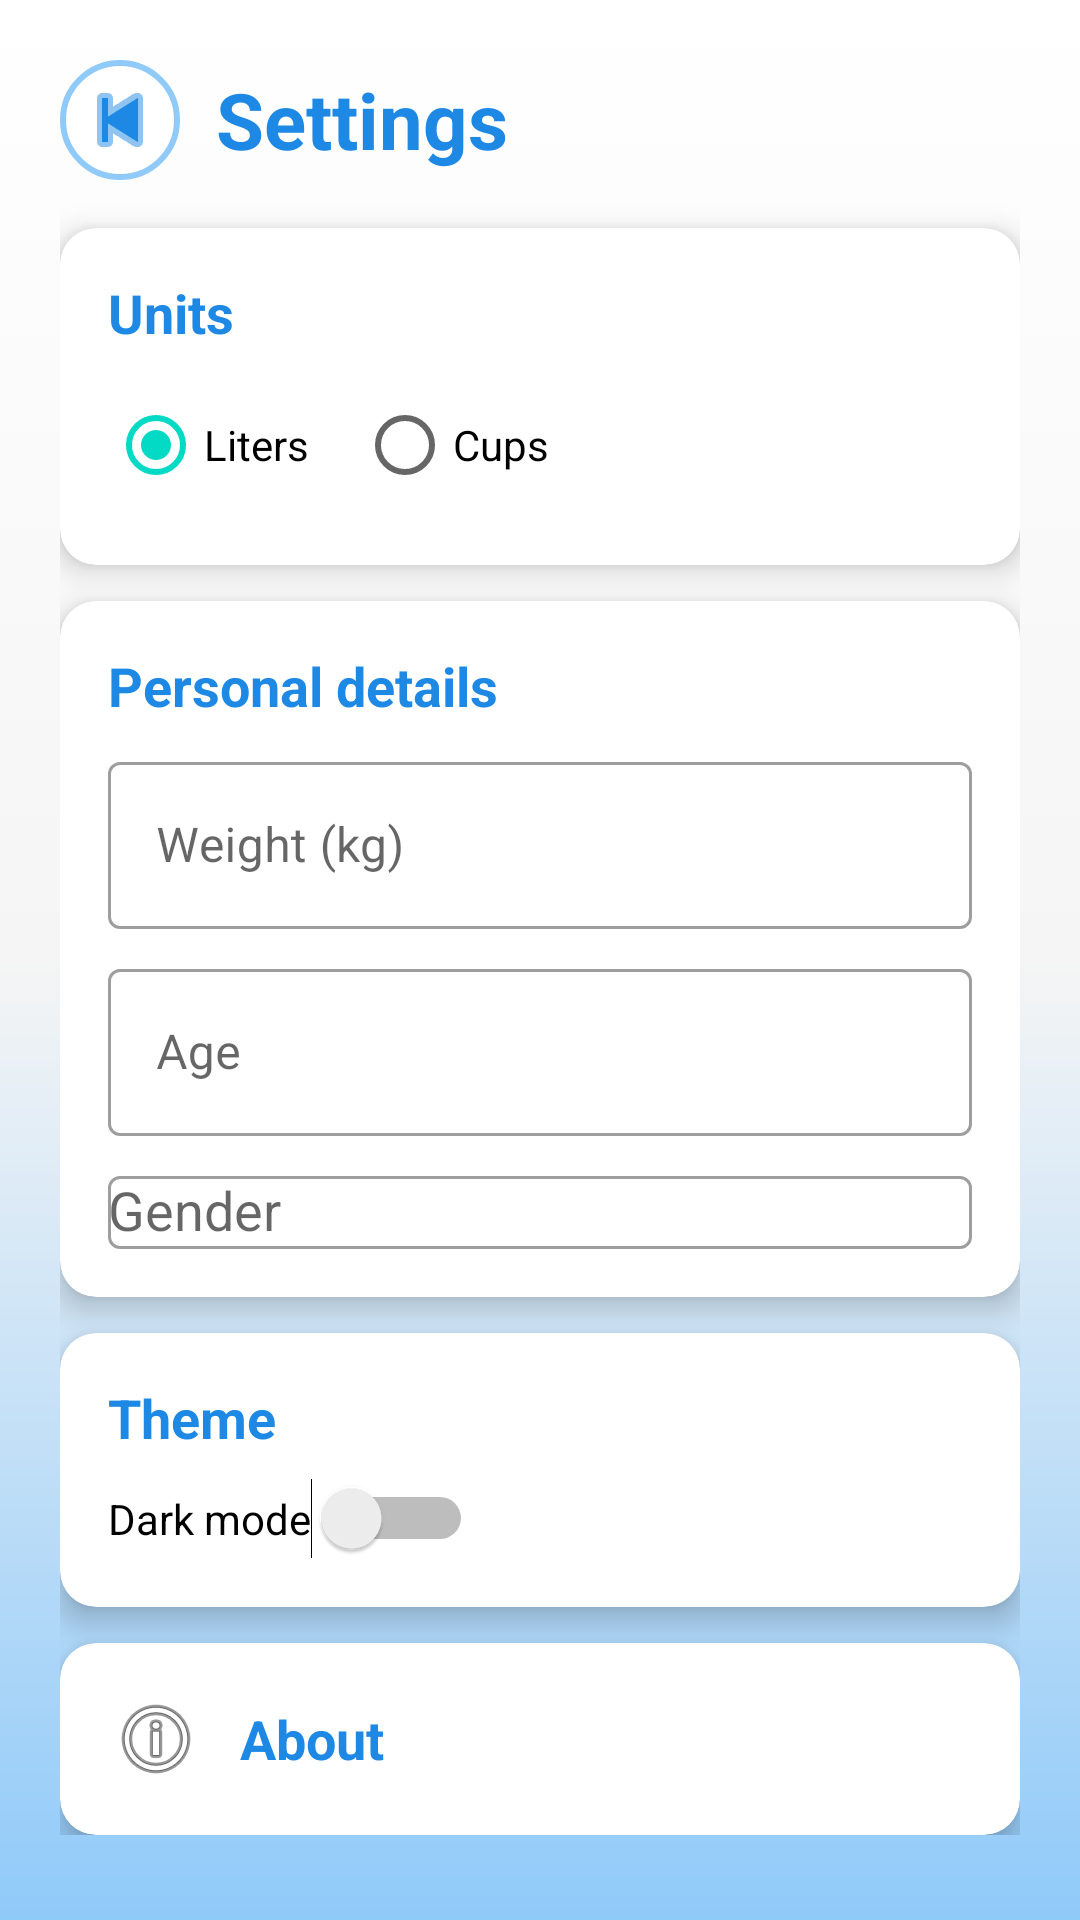

Screen size 1080px x 1920px. Icon name, then its box in pixels as (x1, y1, x2, y2):
Back: (60, 60, 180, 180)
info details: (121, 1704, 191, 1774)
